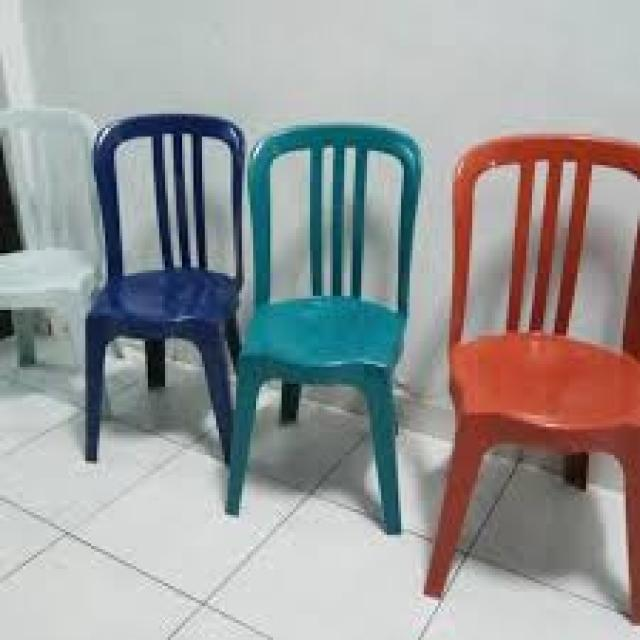chair: (424, 128, 637, 640), (231, 70, 424, 580), (80, 98, 246, 490)
